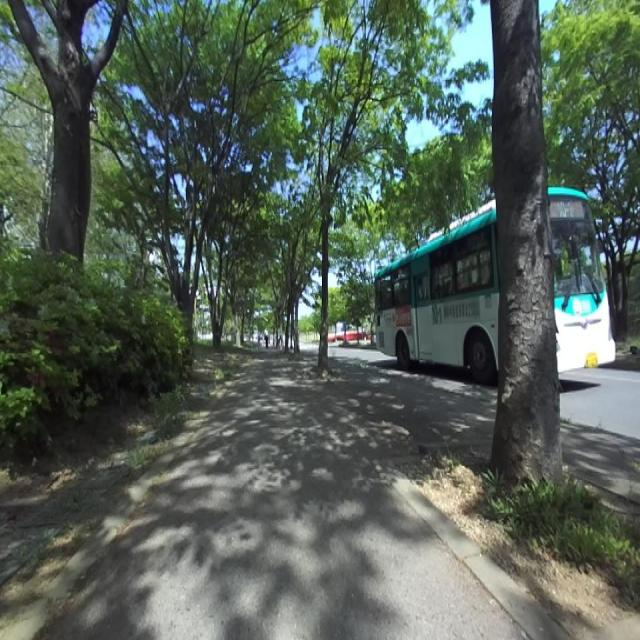sidewalk: (44, 351, 533, 640), (564, 421, 640, 493)
